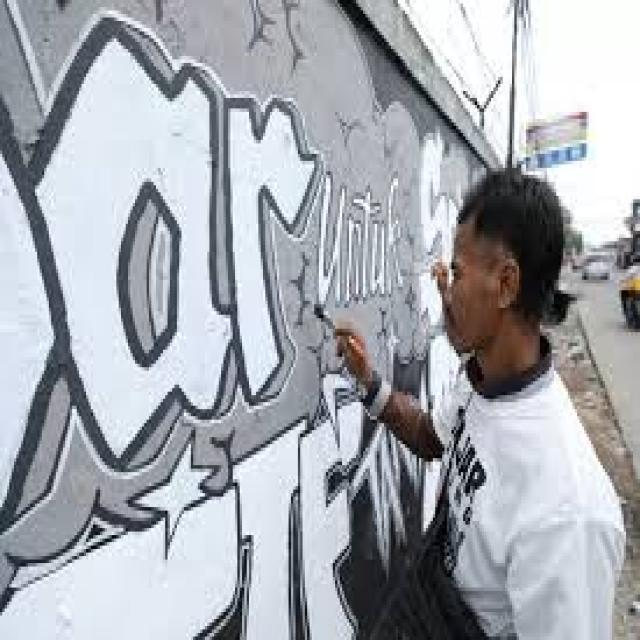-: (0, 9, 326, 520), (2, 395, 366, 640), (316, 173, 406, 310), (348, 418, 423, 578), (416, 127, 464, 323)
